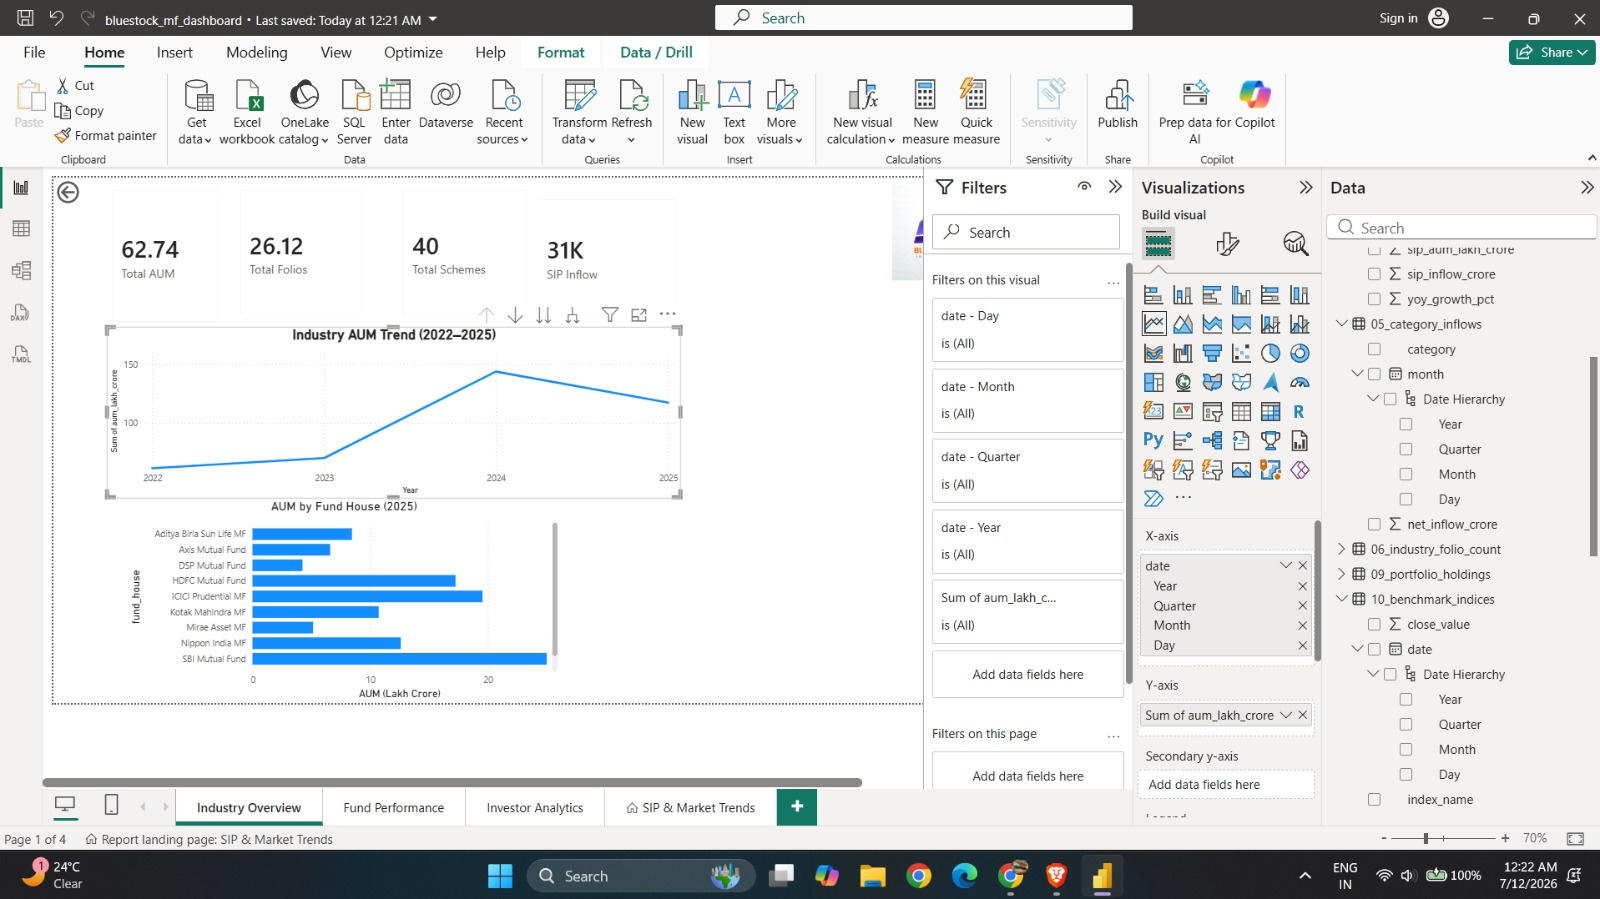

What the dashboard file says about the page in this screenshot:
{"tool":"powerbi","page":{"name":"Industry Overview","canvas":[1280,720],"ordinal":0},"visuals":[{"type":"cardVisual","fields":{"Data":["03_aum_by_fund_house.Total AUM"]},"box":[62.9,0,181.4,215.7],"z":0},{"type":"cardVisual","fields":{"Data":["04_monthly_sip_inflows.Latest SIP Inflow"]},"box":[645.7,12.9,224.3,191.4],"z":1000},{"type":"cardVisual","fields":{"Data":["06_industry_folio_count.Latest Folios"]},"box":[238.6,0,202.9,204.3],"z":2000},{"type":"cardVisual","fields":{"Data":["01_fund_master.Total Schemes"]},"box":[461.4,0,204.3,204.3],"z":3000},{"type":"lineChart","title":"Industry AUM Trend (2022–2025)","fields":{"Category":["03_aum_by_fund_house.date.Variation.Date Hierarchy.Year","03_aum_by_fund_house.date.Variation.Date Hierarchy.Quarter","03_aum_by_fund_house.date.Variation.Date Hierarchy.Month","03_aum_by_fund_house.date.Variation.Date Hierarchy.Day"],"Y":["Sum(03_aum_by_fund_house.aum_lakh_crore)"]},"box":[72.9,204.3,787.1,235.7],"z":4000},{"type":"clusteredBarChart","title":"AUM by Fund House (2025)","fields":{"Y":["Sum(03_aum_by_fund_house.aum_lakh_crore)"],"Category":["03_aum_by_fund_house.fund_house","03_aum_by_fund_house.date.Variation.Date Hierarchy.Year","03_aum_by_fund_house.date.Variation.Date Hierarchy.Quarter","03_aum_by_fund_house.date.Variation.Date Hierarchy.Month","03_aum_by_fund_house.date.Variation.Date Hierarchy.Day"]},"box":[100,440,595.7,280],"z":5000},{"type":"actionButton","box":[0,0,100,40],"z":6000},{"type":"image","box":[1148.6,0,131.4,150],"z":6001}]}

Visuals, with their boxes on the page's 1280x720 design canvas (x1, y1, x2, y2). These are canvas units, not pixel positions in the 1600x899 screenshot, which may show the page scaled, cropped or inside an application window:
cardVisual - 03_aum_by_fund_house.Total AUM: (x1=63, y1=0, x2=244, y2=216)
cardVisual - 04_monthly_sip_inflows.Latest SIP Inflow: (x1=646, y1=13, x2=870, y2=204)
cardVisual - 06_industry_folio_count.Latest Folios: (x1=239, y1=0, x2=442, y2=204)
cardVisual - 01_fund_master.Total Schemes: (x1=461, y1=0, x2=666, y2=204)
"Industry AUM Trend (2022–2025)" lineChart: (x1=73, y1=204, x2=860, y2=440)
"AUM by Fund House (2025)" clusteredBarChart: (x1=100, y1=440, x2=696, y2=720)
actionButton: (x1=0, y1=0, x2=100, y2=40)
image: (x1=1149, y1=0, x2=1280, y2=150)
